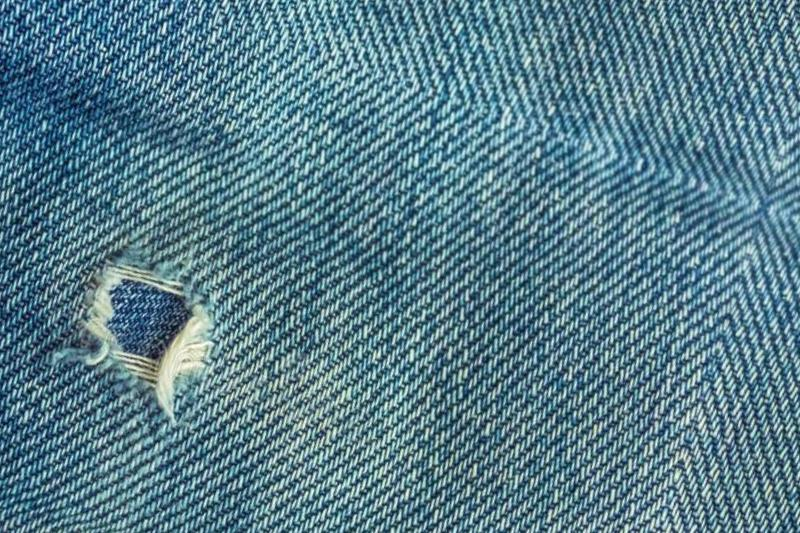hole: (76, 257, 221, 400)
